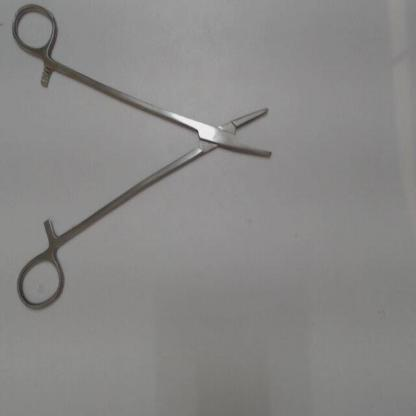8 Mayo Needle Holder: (6, 1, 288, 317)
